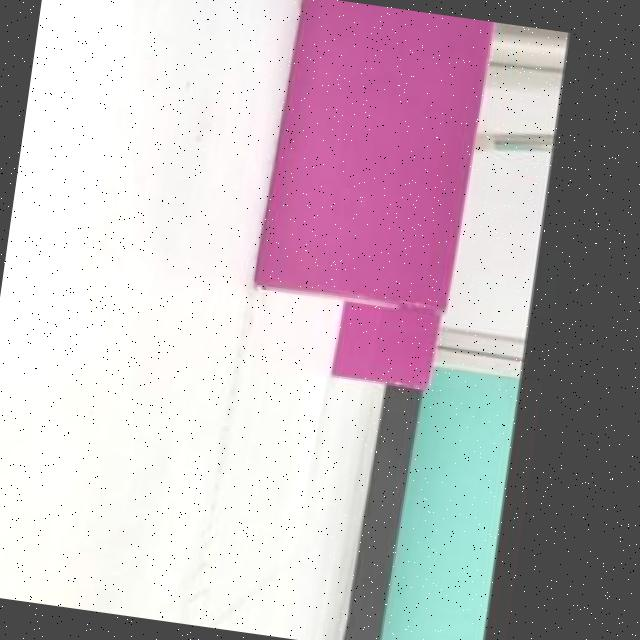xparking: (260, 0, 487, 306), (334, 302, 436, 384)
